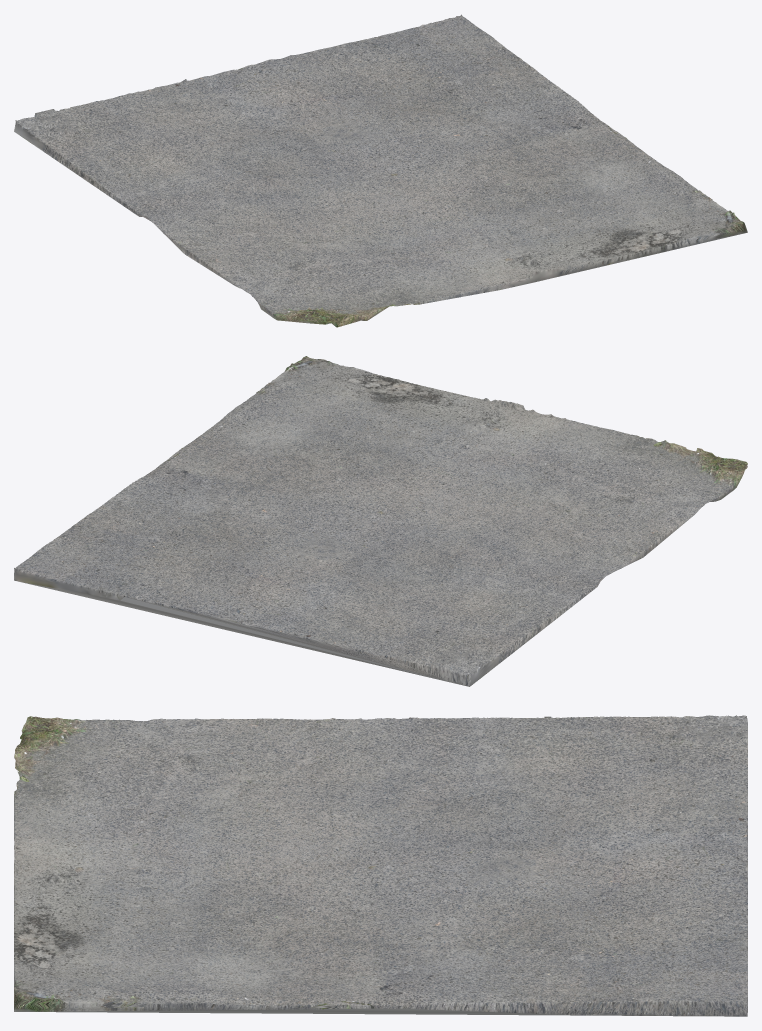
Rendered from grass_asphalt_ground.glb.
3 renders of one model, top to bottom at view 1: azimuth 30°, elevation 25°; view 2: azimuth 150°, elevation 25°; view 3: azimuth 270°, elevation 25°, orthographic. The views are drawn at different scales.
Parts seen in each view (by area): view 1: grass-asphalt; view 2: grass-asphalt; view 3: grass-asphalt.
Boxes of the visible parts, box(x1,y1,x2,y2) form: grass-asphalt: box(14, 14, 747, 327); grass-asphalt: box(14, 356, 747, 686); grass-asphalt: box(14, 715, 747, 1016).
Bounding box in the file's own units: 34.56 × 1.37 × 38.2.
Materials: 3 (3 with a texture image).
